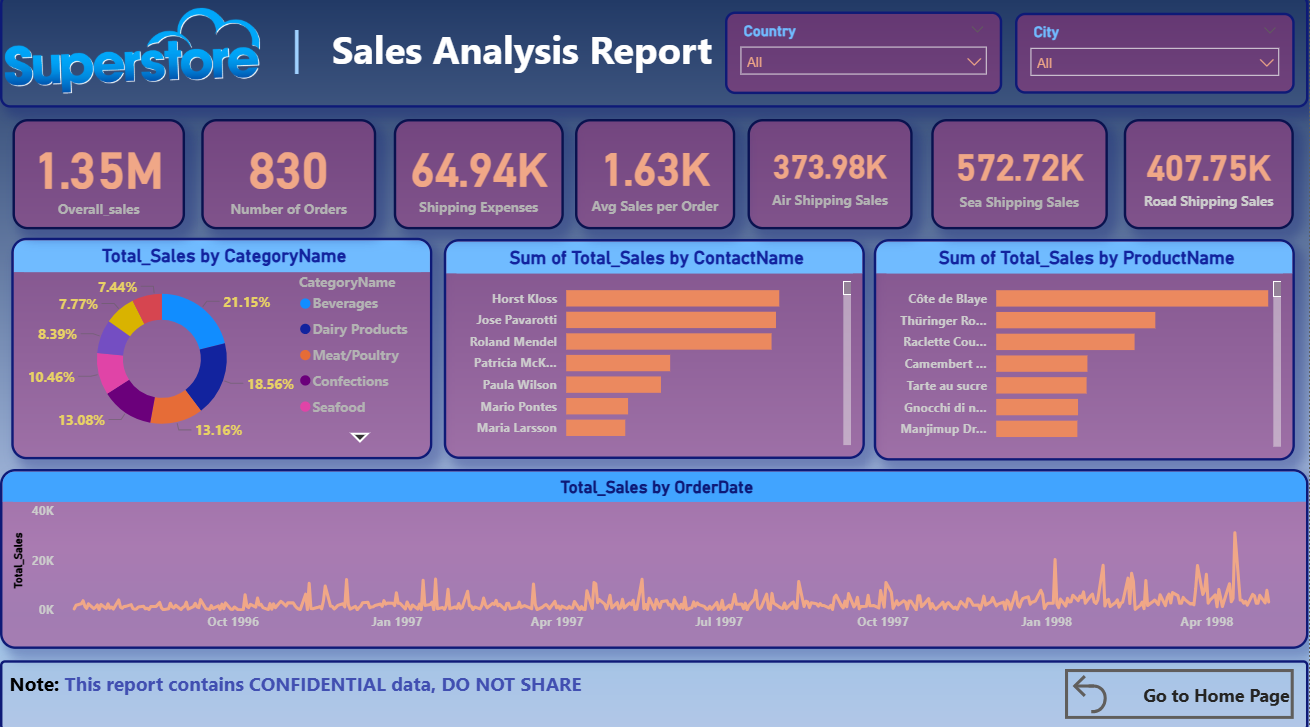

This screenshot's page, from the dashboard's own definition file:
{"tool":"powerbi","page":{"name":"Summary Page","canvas":[1280,720],"ordinal":1},"visuals":[{"type":"textbox","box":[0,0,1280.3,111.3],"z":0},{"type":"image","box":[0,0,259.2,111.3],"z":1000},{"type":"textbox","box":[272.7,17.1,436.6,94.2],"z":2000},{"type":"donutChart","fields":{"Category":["Categories.CategoryName"],"Y":["Sum(Order_Details.Sales)"]},"box":[11,238.5,412.1,216.4],"z":3000},{"type":"clusteredBarChart","fields":{"Category":["Customers.ContactName"],"Y":["Sum(Order_Details.Total_Sales)"]},"box":[434.1,239.7,412.1,215.2],"z":4000},{"type":"clusteredBarChart","fields":{"Category":["Products.ProductName"],"Y":["Sum(Order_Details.Total_Sales)"]},"box":[854.8,239.7,412.1,216.4],"z":5000},{"type":"lineChart","fields":{"Y":["Sum(Order_Details.Sales)"],"Category":["Orders.OrderDate"]},"box":[0,464.7,1280.3,176.1],"z":6000},{"type":"textbox","box":[0,651.8,1280.3,68.5],"z":7000},{"type":"card","fields":{"Values":["KPI.Overall_sales"]},"box":[12.2,122.3,168.8,107.6],"z":8000},{"type":"card","fields":{"Values":["KPI.Number of Orders"]},"box":[196.9,122.3,171.2,107.6],"z":9000},{"type":"card","fields":{"Values":["KPI.Shipping Expenses"]},"box":[385.2,122.3,166.3,107.6],"z":10000},{"type":"card","fields":{"Values":["KPI.Air Shipping Sales"]},"box":[731.3,122.3,161.4,107.6],"z":11000},{"type":"card","fields":{"Values":["KPI.Sea Shipping Sales"]},"box":[911,122.3,172.4,107.6],"z":12000},{"type":"card","fields":{"Values":["KPI.Road Shipping Sales"]},"box":[1099.3,122.3,166.3,107.6],"z":13000},{"type":"card","fields":{"Values":["KPI.Avg Sales per Order"]},"box":[562.5,122.3,156.5,107.6],"z":14000},{"type":"slicer","fields":{"Values":["Customers.City"]},"box":[992.9,18.3,273.9,79.5],"z":15000},{"type":"actionButton","box":[1041.9,660.3,223.8,48.9],"z":16000},{"type":"slicer","fields":{"Values":["Customers.Country"]},"box":[709.2,17.1,271.5,80.7],"z":17000}]}

Visuals, with their boxes in screenshot pixels (x1, y1, x2, y2), scaled from the page's 1280x720 canvas onto the 1310x727 screenshot:
textbox: <bbox>0, 0, 1309, 112</bbox>
image: <bbox>0, 0, 265, 112</bbox>
textbox: <bbox>279, 17, 726, 112</bbox>
donutChart - Categories.CategoryName x Sum(Order_Details.Sales): <bbox>11, 241, 433, 459</bbox>
clusteredBarChart - Customers.ContactName x Sum(Order_Details.Total_Sales): <bbox>444, 242, 866, 459</bbox>
clusteredBarChart - Products.ProductName x Sum(Order_Details.Total_Sales): <bbox>875, 242, 1297, 461</bbox>
lineChart - Sum(Order_Details.Sales) x Orders.OrderDate: <bbox>0, 469, 1309, 647</bbox>
textbox: <bbox>0, 658, 1309, 726</bbox>
card - KPI.Overall_sales: <bbox>12, 123, 185, 232</bbox>
card - KPI.Number of Orders: <bbox>202, 123, 377, 232</bbox>
card - KPI.Shipping Expenses: <bbox>394, 123, 564, 232</bbox>
card - KPI.Air Shipping Sales: <bbox>748, 123, 914, 232</bbox>
card - KPI.Sea Shipping Sales: <bbox>932, 123, 1109, 232</bbox>
card - KPI.Road Shipping Sales: <bbox>1125, 123, 1295, 232</bbox>
card - KPI.Avg Sales per Order: <bbox>576, 123, 736, 232</bbox>
slicer - Customers.City: <bbox>1016, 18, 1296, 99</bbox>
actionButton: <bbox>1066, 667, 1295, 716</bbox>
slicer - Customers.Country: <bbox>726, 17, 1004, 99</bbox>
